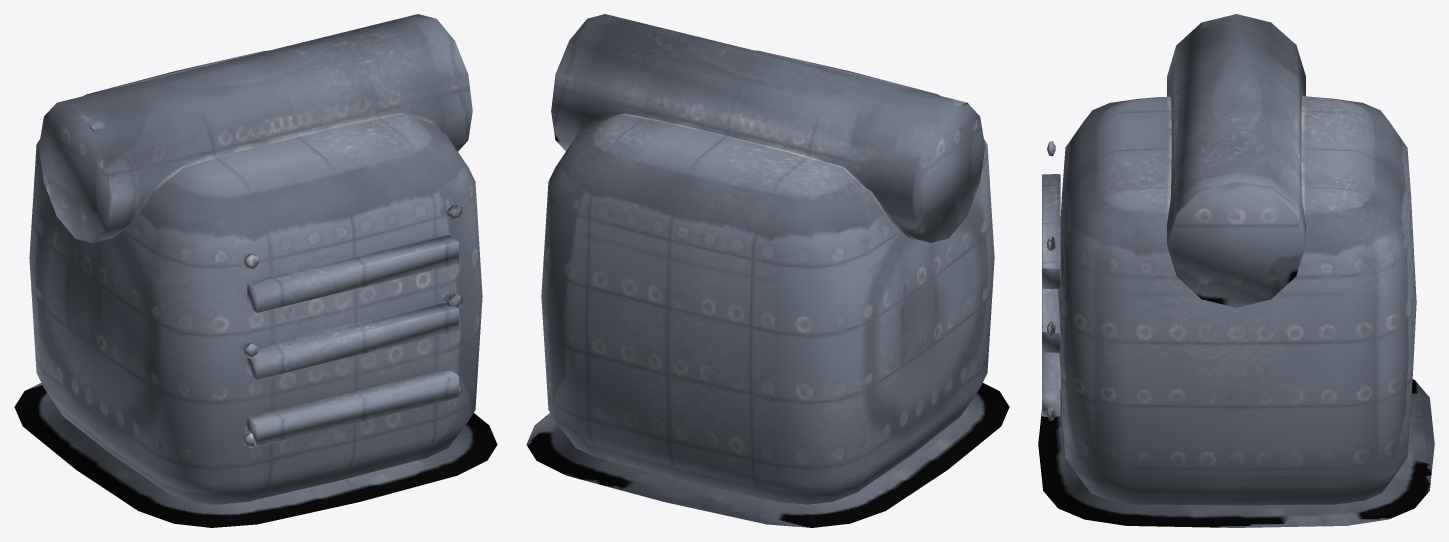
Rendered from MatonImp_BrazoAbajo.fbx.
3 views of the same model, side by side, from view 1: azimuth 30°, elevation 25°; view 2: azimuth 150°, elevation 25°; view 3: azimuth 270°, elevation 25° (orthographic). The views are drawn at different scales.
Visible parts, largest first — view 1: MatonImp_BrazoAbajo; view 2: MatonImp_BrazoAbajo; view 3: MatonImp_BrazoAbajo.
Boxes of the visible parts, x1=… form: MatonImp_BrazoAbajo: x1=14, y1=14, x2=497, y2=527; MatonImp_BrazoAbajo: x1=526, y1=14, x2=1009, y2=527; MatonImp_BrazoAbajo: x1=1038, y1=14, x2=1434, y2=527.
Bounding box in the file's own units: 1.43 × 1.47 × 1.42.
